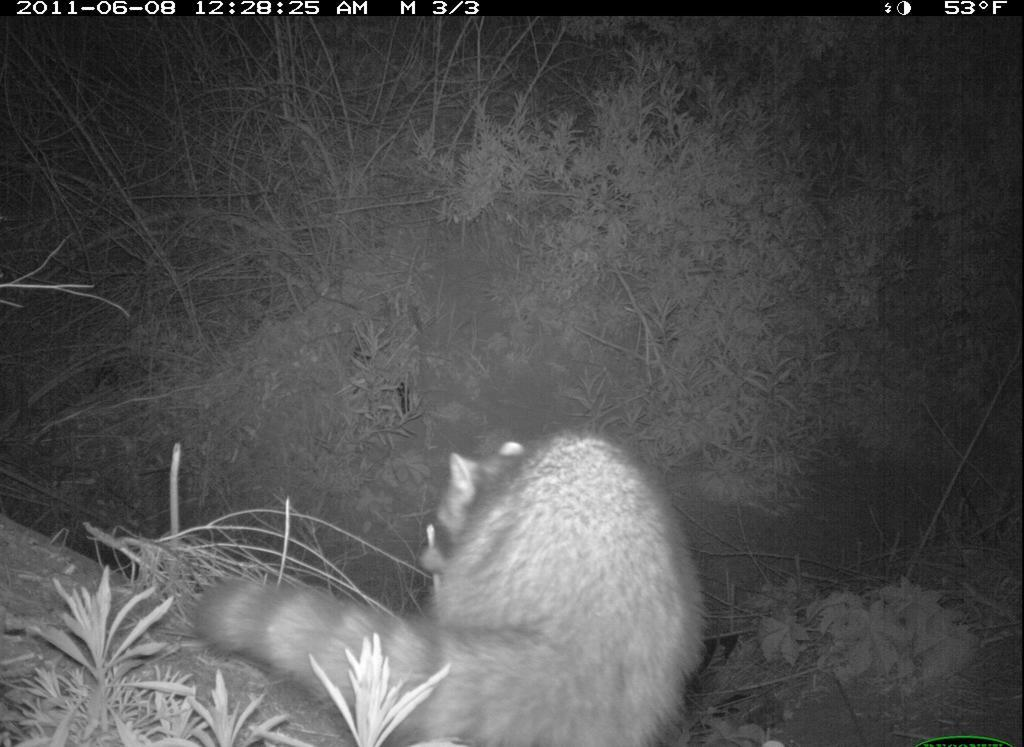raccoon: (187, 401, 737, 742)
